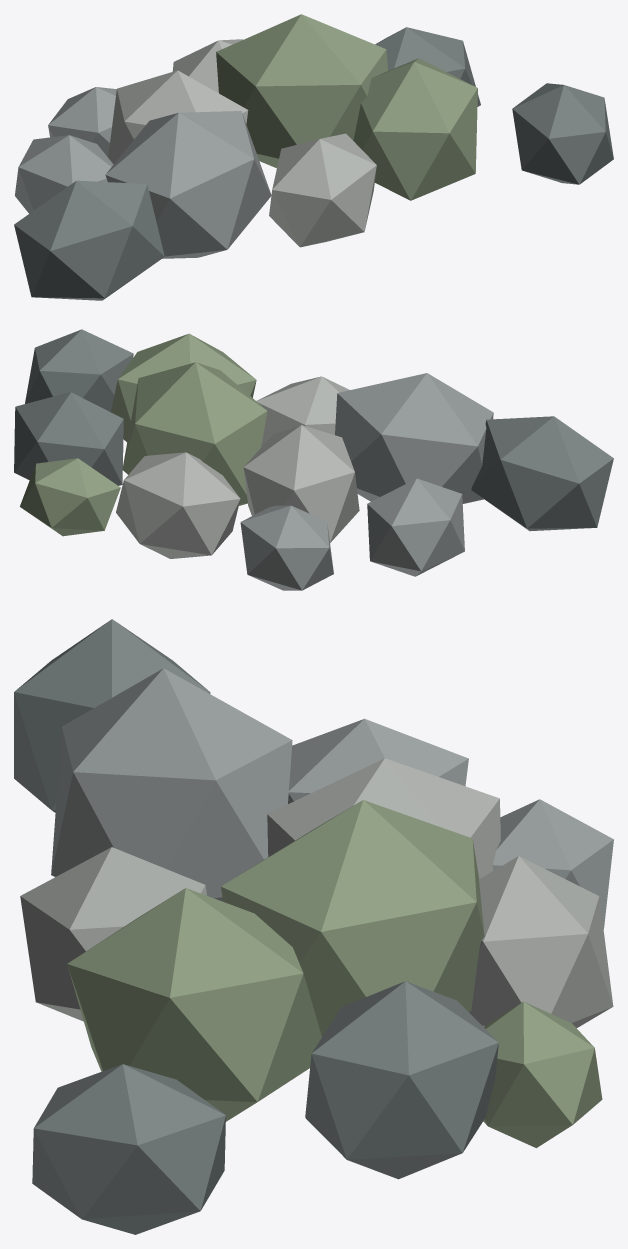
File: scree_pile_3x2.glb
The picture shows the model from 3 angles, top to bottom: view 1: azimuth 30°, elevation 25°; view 2: azimuth 150°, elevation 25°; view 3: azimuth 270°, elevation 25°; orthographic projection. The views are drawn at different scales.
Parts seen in each view (by area): view 1: scree_08, scree_02, scree_01, scree_04, scree_03, scree_05, scree_07, scree_06, scree_09, scree_10, scree_11; view 2: scree_02, scree_01, scree_08, scree_11, scree_07, scree_06, scree_09, scree_10, scree_05, scree_12, scree_04, scree_03; view 3: scree_04, scree_02, scree_08, scree_09, scree_05, scree_11, scree_03, scree_01, scree_12, scree_07, scree_06, scree_10.
Part boxes in pixels (x1,y1,x2,y2): scree_08: (216,14,387,168); scree_02: (105,111,271,258); scree_01: (14,180,164,300); scree_04: (353,58,477,200); scree_03: (269,133,376,247); scree_05: (512,83,613,184); scree_07: (108,70,248,164); scree_06: (15,135,113,213); scree_09: (375,27,480,106); scree_10: (48,87,116,156); scree_11: (172,39,242,93); scree_02: (335,373,493,503); scree_01: (471,416,613,531); scree_08: (122,362,267,505); scree_11: (116,452,240,558); scree_07: (243,425,359,542); scree_06: (367,478,464,576); scree_09: (14,392,123,485); scree_10: (240,505,333,590); scree_05: (25,329,133,411); scree_12: (20,458,120,536); scree_04: (111,333,256,441); scree_03: (256,376,349,447); scree_04: (67,888,321,1121); scree_02: (51,668,292,901); scree_08: (221,800,484,1036); scree_09: (305,981,498,1179); scree_05: (32,1064,225,1234); scree_11: (469,856,613,1028); scree_03: (20,847,206,1021); scree_01: (14,619,210,812); scree_12: (483,1001,602,1148); scree_07: (267,758,500,878); scree_06: (288,718,468,803); scree_10: (492,799,613,929).
Size of the model in its own units: 2.63 by 0.7198 by 1.41.
